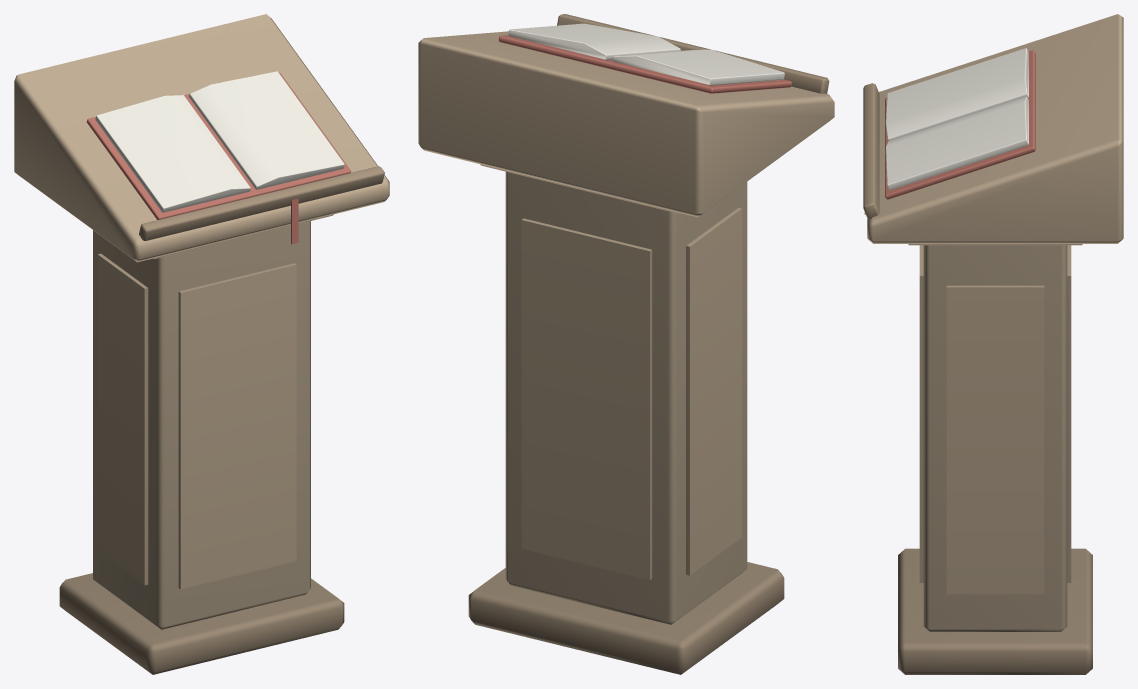
The model's file is lectern.glb.
3 views of the same model, side by side, from view 1: azimuth 30°, elevation 25°; view 2: azimuth 150°, elevation 25°; view 3: azimuth 270°, elevation 25° (orthographic). The views are drawn at different scales.
Parts seen in each view (by area): view 1: babel_lectern; view 2: babel_lectern; view 3: babel_lectern.
Part boxes in pixels (box(x1,y1,x2,y2)): babel_lectern: box(14, 14, 389, 674); babel_lectern: box(418, 14, 834, 674); babel_lectern: box(863, 14, 1123, 674).
Bounding box in the file's own units: 0.6 × 1.19 × 0.5078.
